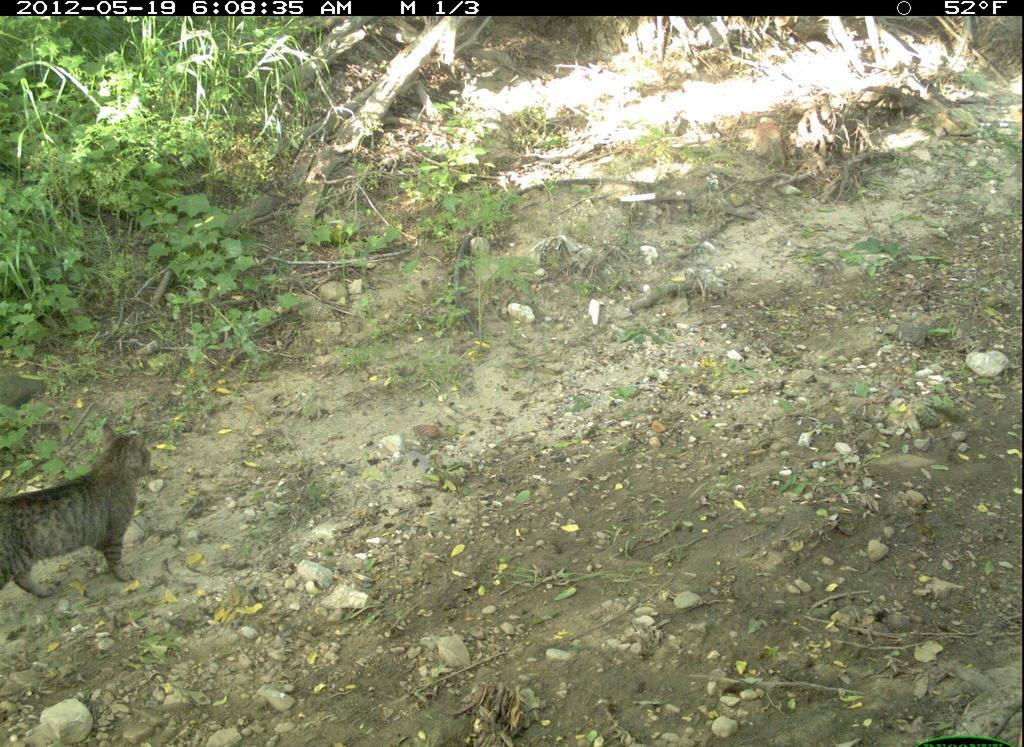cat: (3, 424, 159, 601)
